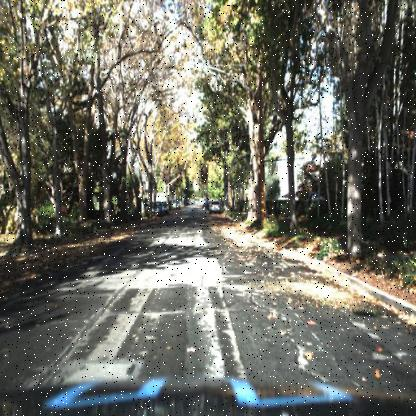car: (148, 200, 166, 218), (206, 196, 222, 216), (161, 201, 169, 217)
